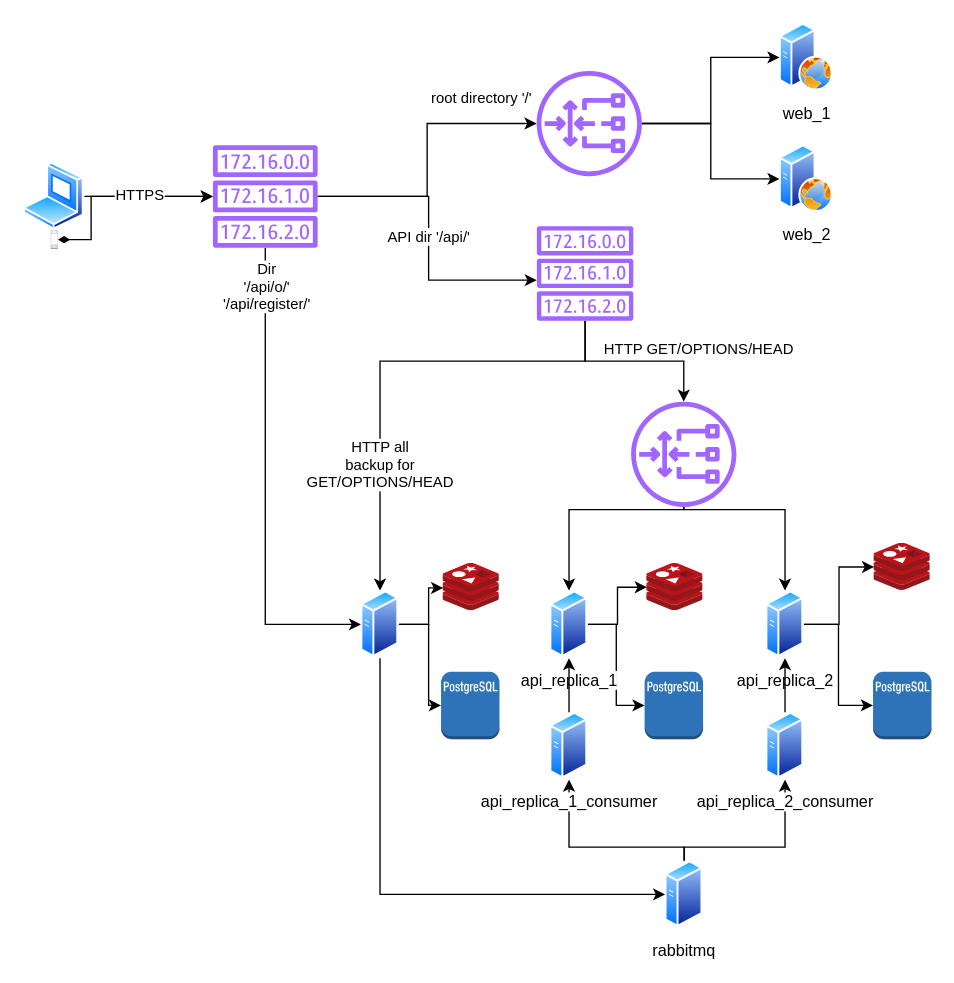
Image size: 954x983. Some labels were removed from this diagram. Each missing label, with the box of its shape:
API: (630, 401, 736, 506)
API (master): (360, 590, 398, 657)
WEB: (536, 70, 641, 176)
